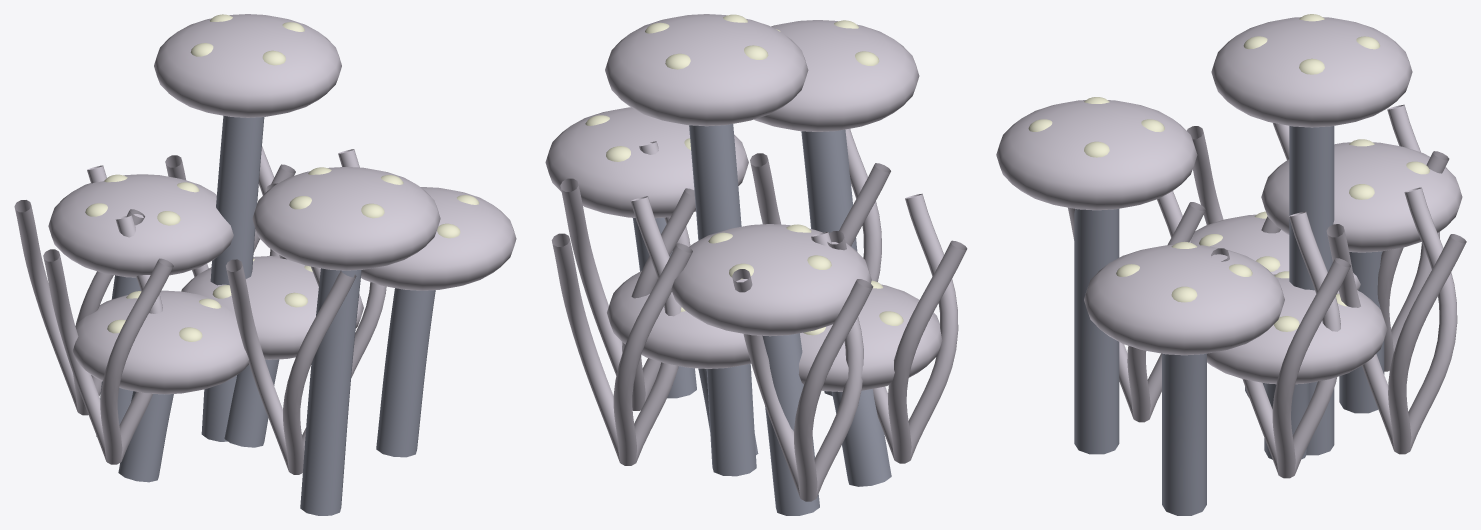
Rendered from bio_spore_fungus_04_near.glb.
3 views of the same model, side by side, from view 1: azimuth 30°, elevation 25°; view 2: azimuth 150°, elevation 25°; view 3: azimuth 270°, elevation 25° (orthographic). The views are drawn at different scales.
Parts seen in each view (by area): view 1: Thick umbrella cap.002, Thick umbrella cap.003, Thick umbrella cap.001, Thick umbrella cap.004, Curved stipe.002, Spiral filament.012, Thick umbrella cap.005, Curved stipe.003, Spiral filament.006, Curved stipe.005, Thick umbrella cap, Spiral filament.003 (+9 smaller); view 2: Thick umbrella cap.003, Thick umbrella cap.001, Thick umbrella cap.005, Thick umbrella cap.002, Spiral filament.009, Spiral filament.003, Curved stipe.003, Spiral filament.012, Thick umbrella cap.004, Spiral filament, Thick umbrella cap, Spiral filament.006 (+7 smaller); view 3: Thick umbrella cap.003, Thick umbrella cap.002, Thick umbrella cap.005, Thick umbrella cap.001, Spiral filament.009, Curved stipe.002, Spiral filament, Thick umbrella cap, Curved stipe.005, Curved stipe.003, Spiral filament.006, Spiral filament.003 (+9 smaller).
Boxes of the visible parts, left/top/right/bottom form: Thick umbrella cap.002: left=252, top=167, right=440, bottom=270; Thick umbrella cap.003: left=154, top=14, right=341, bottom=117; Thick umbrella cap.001: left=48, top=174, right=233, bottom=277; Thick umbrella cap.004: left=73, top=290, right=248, bottom=394; Curved stipe.002: left=300, top=268, right=361, bottom=515; Spiral filament.012: left=43, top=215, right=173, bottom=464; Thick umbrella cap.005: left=361, top=187, right=516, bottom=290; Curved stipe.003: left=201, top=115, right=264, bottom=441; Spiral filament.006: left=226, top=259, right=356, bottom=474; Curved stipe.005: left=376, top=288, right=435, bottom=457; Thick umbrella cap: left=181, top=256, right=363, bottom=359; Spiral filament.003: left=14, top=165, right=144, bottom=415; Thick umbrella cap.003: left=605, top=14, right=808, bottom=126; Thick umbrella cap.001: left=671, top=224, right=871, bottom=336; Thick umbrella cap.005: left=545, top=107, right=748, bottom=218; Thick umbrella cap.002: left=754, top=20, right=919, bottom=131; Spiral filament.009: left=551, top=196, right=692, bottom=465; Spiral filament.003: left=732, top=232, right=873, bottom=501; Curved stipe.003: left=689, top=124, right=756, bottom=476; Spiral filament.012: left=827, top=193, right=967, bottom=463; Thick umbrella cap.004: left=798, top=284, right=942, bottom=391; Spiral filament: left=560, top=141, right=695, bottom=410; Thick umbrella cap: left=607, top=271, right=751, bottom=368; Spiral filament.006: left=750, top=128, right=890, bottom=281; Thick umbrella cap.003: left=1211, top=17, right=1412, bottom=127; Thick umbrella cap.002: left=996, top=100, right=1197, bottom=210; Thick umbrella cap.005: left=1084, top=245, right=1284, bottom=355; Thick umbrella cap.001: left=1261, top=142, right=1462, bottom=252; Spiral filament.009: left=1326, top=187, right=1466, bottom=454; Curved stipe.002: left=1074, top=209, right=1119, bottom=454; Spiral filament: left=1211, top=211, right=1350, bottom=478; Thick umbrella cap: left=1207, top=274, right=1387, bottom=384; Curved stipe.005: left=1162, top=353, right=1206, bottom=515; Curved stipe.003: left=1289, top=126, right=1334, bottom=455; Spiral filament.006: left=1068, top=191, right=1205, bottom=422; Spiral filament.003: left=1377, top=104, right=1449, bottom=371.
Size of the model in its own units: 1.95 by 1.78 by 1.78.
